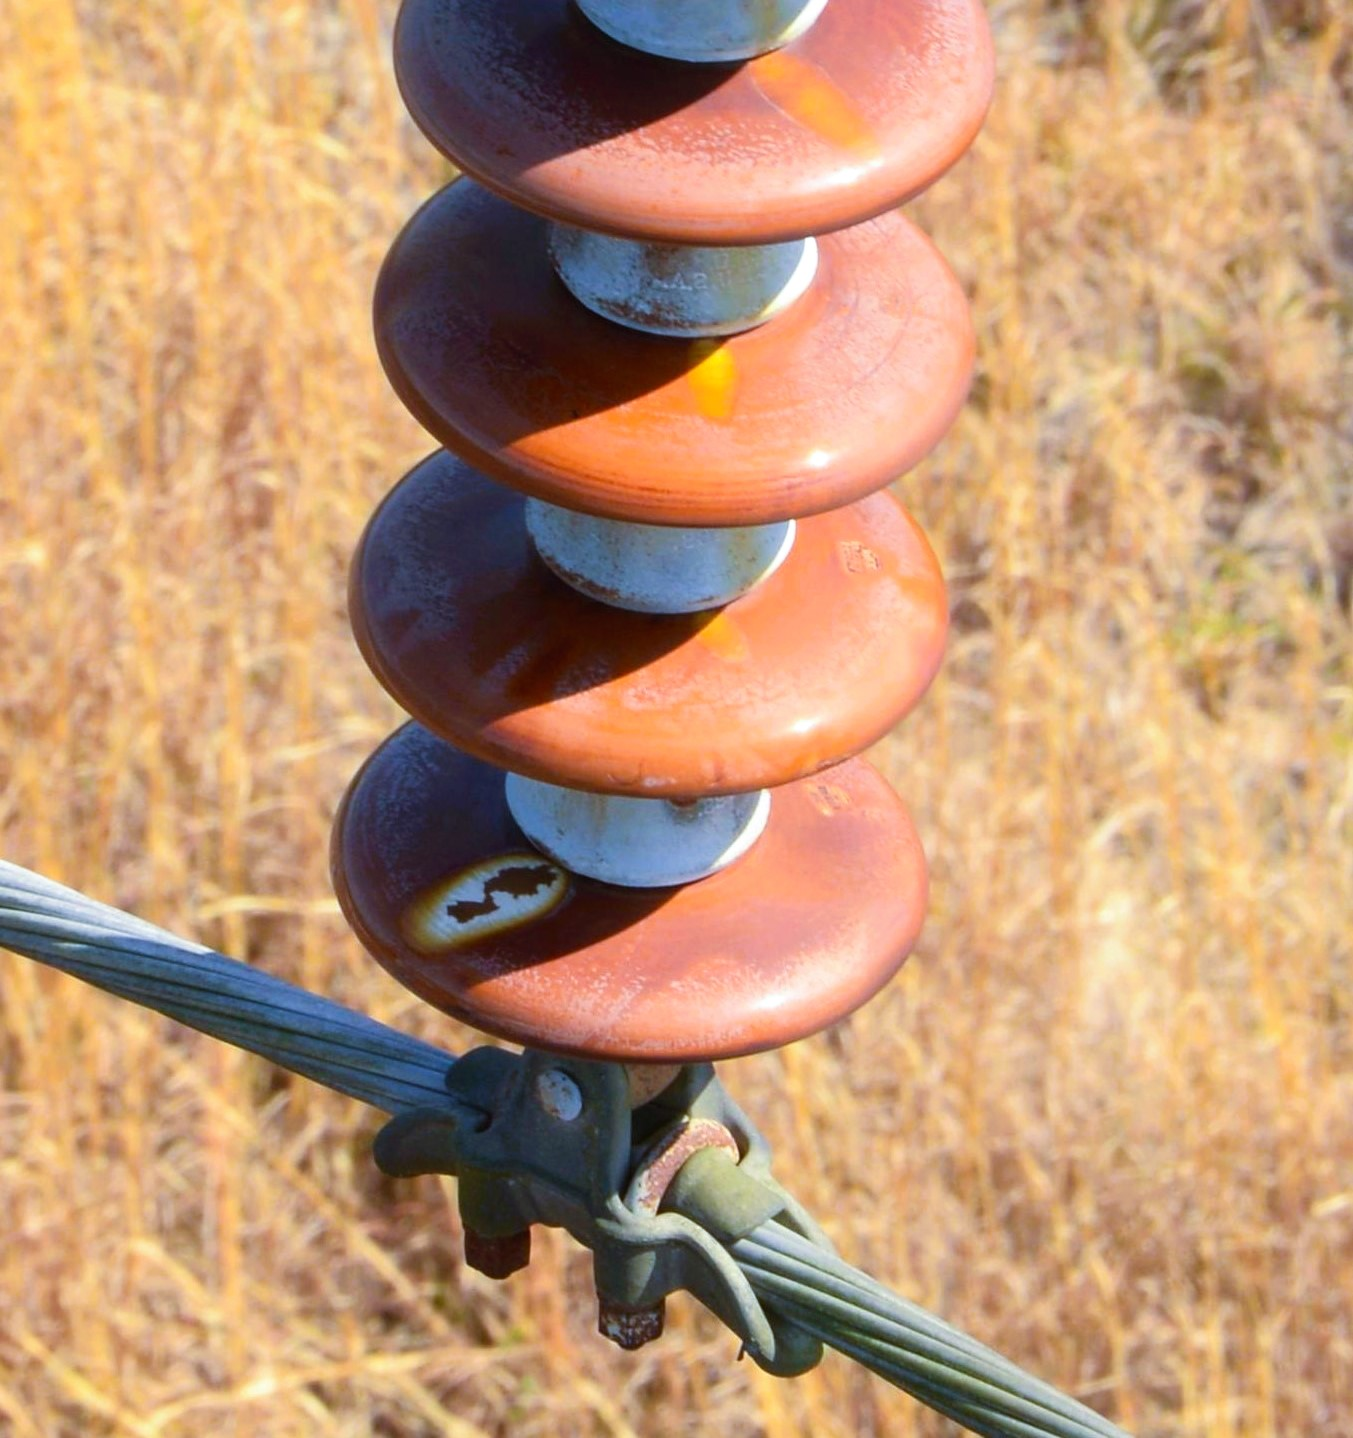Insulator flashover: (320, 678, 947, 1067)
